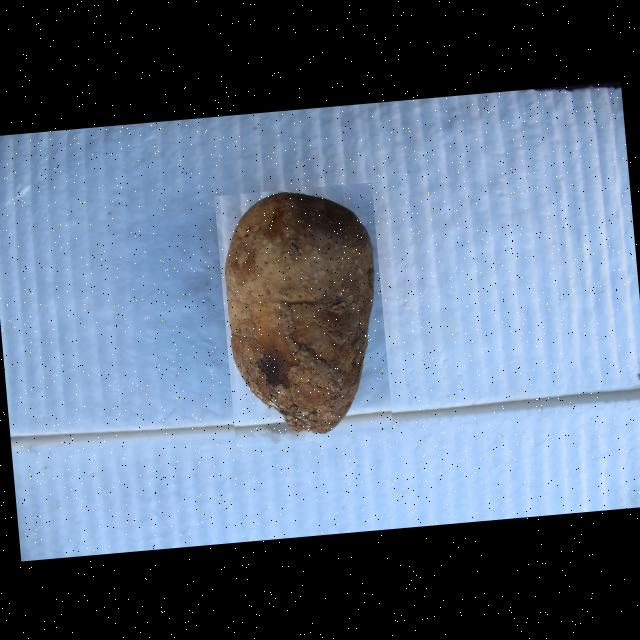Diseased-fungal potato: (212, 181, 392, 446)
